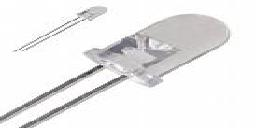LED: (90, 12, 235, 88), (11, 3, 109, 45)
